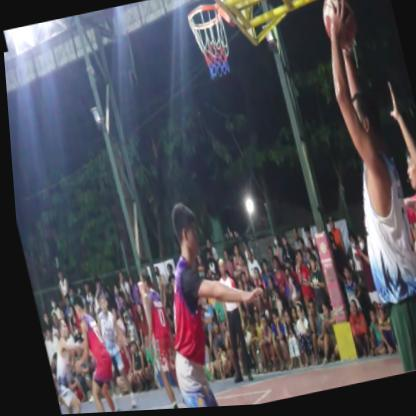basketball: (315, 0, 363, 66)
rim: (178, 0, 246, 92)
